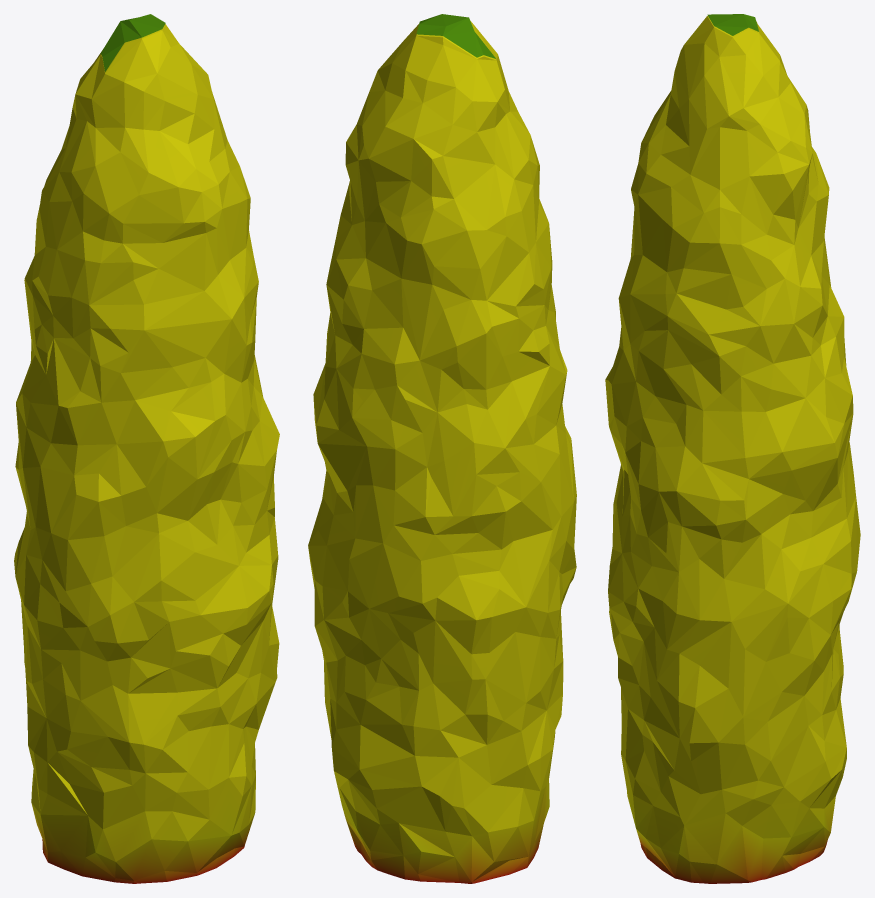
Rendered from canyon_pillar_5.glb.
The picture shows the model from 3 angles, left to right: view 1: azimuth 30°, elevation 25°; view 2: azimuth 150°, elevation 25°; view 3: azimuth 270°, elevation 25°; orthographic projection.
Parts seen in each view (by area): view 1: canyon_pillar_5.002; view 2: canyon_pillar_5.002; view 3: canyon_pillar_5.002.
Part boxes in pixels (bbox=[...]): canyon_pillar_5.002: bbox=[14, 14, 279, 883]; canyon_pillar_5.002: bbox=[308, 14, 576, 883]; canyon_pillar_5.002: bbox=[605, 14, 860, 883].
Size of what is drawn, in the model's own units: 14.23 by 48.67 by 13.66.
